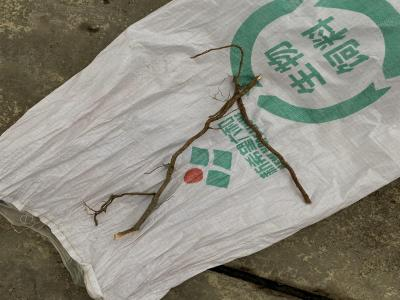Root: (94, 44, 311, 240)
